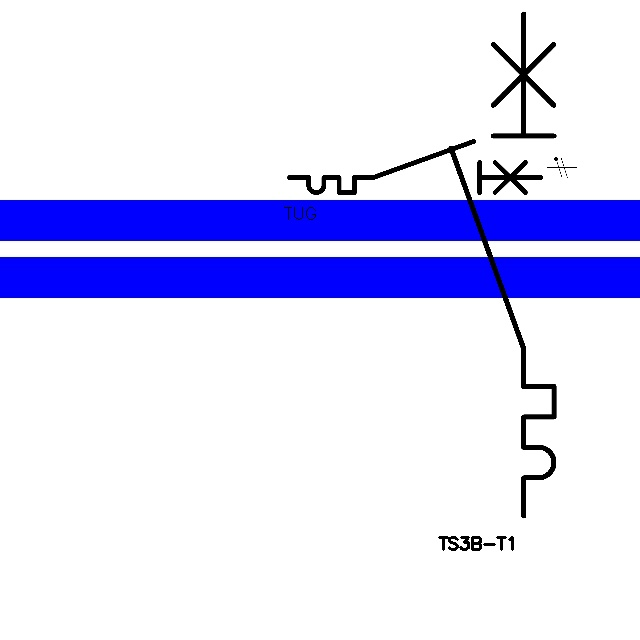interruptor_termomagnetico: (438, 1, 567, 529), (283, 135, 547, 199)
